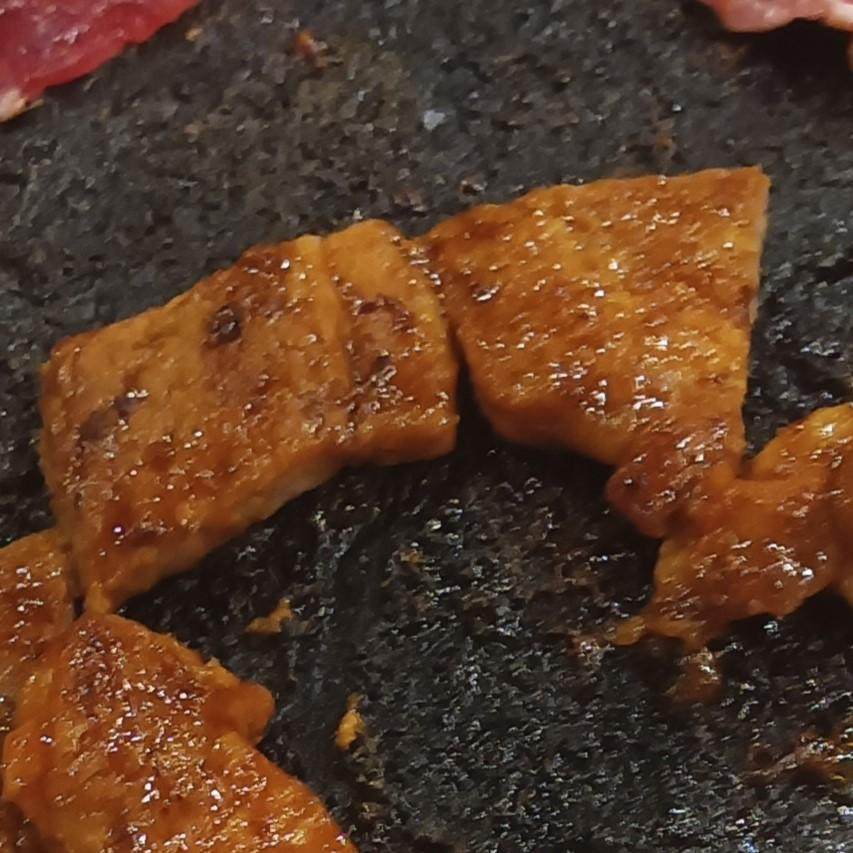Undercooked: (0, 0, 196, 110)
Well-Cooked: (0, 168, 852, 852)
